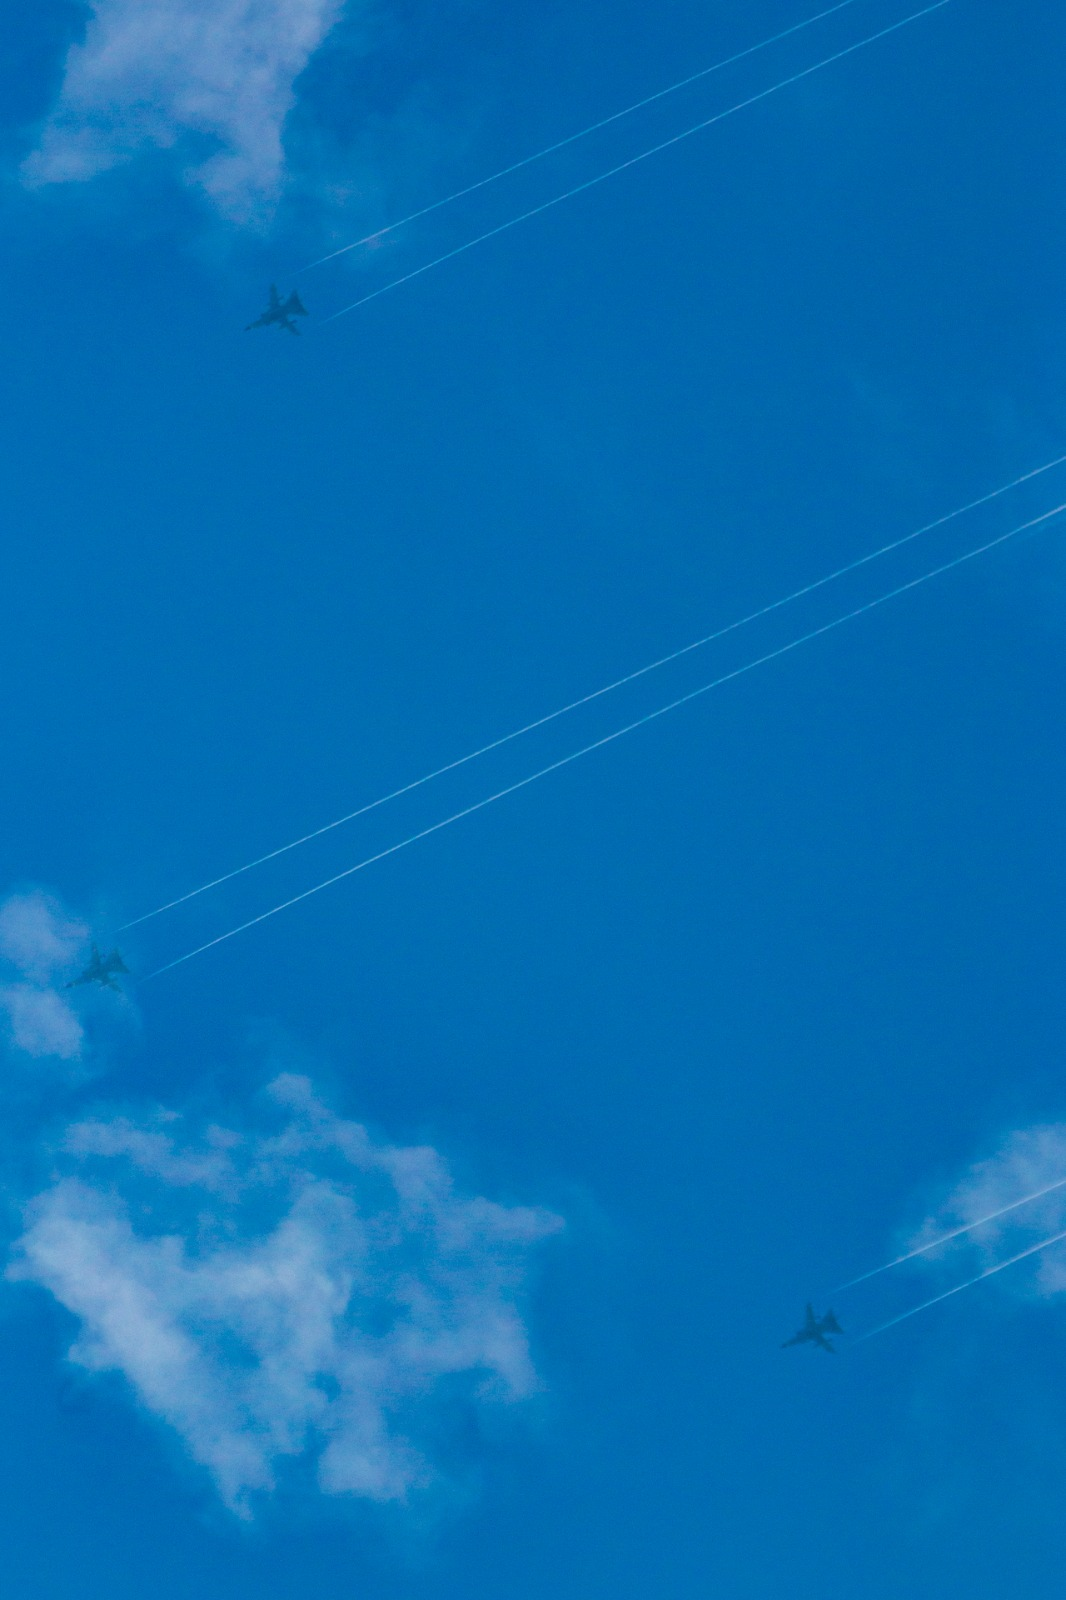Tornado: (242, 281, 311, 338), (61, 940, 132, 994), (778, 1301, 846, 1355)
